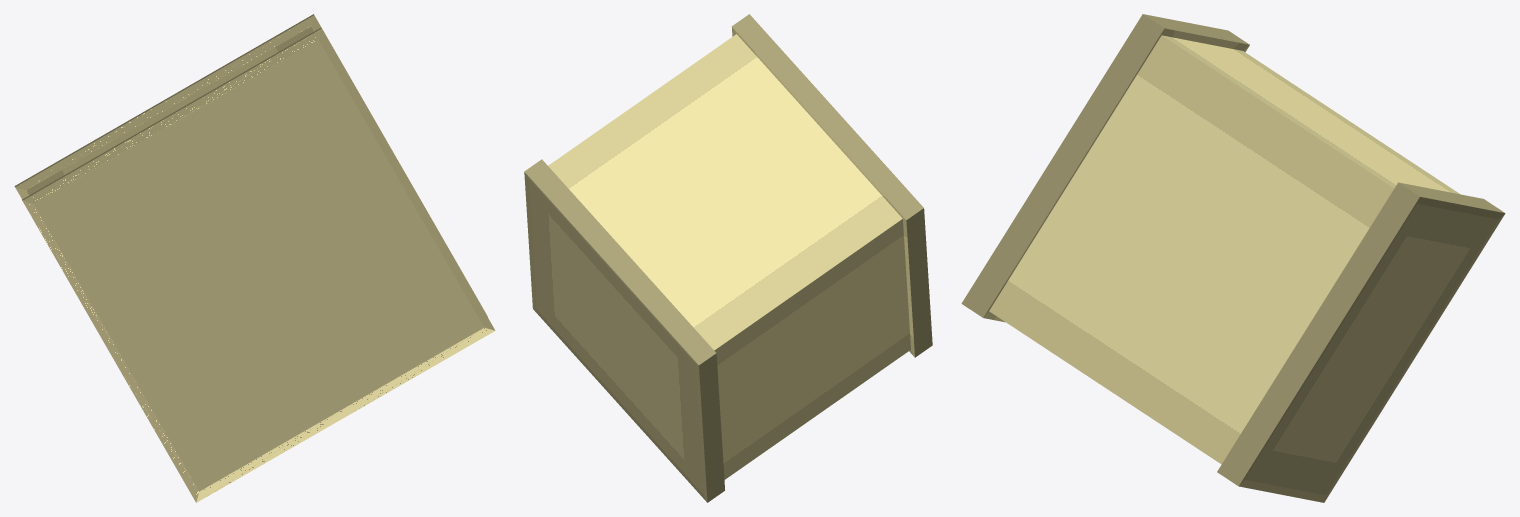
Rendered from building.glb.
The picture shows the model from 3 angles, left to right: view 1: azimuth 30°, elevation 25°; view 2: azimuth 150°, elevation 25°; view 3: azimuth 270°, elevation 25°; orthographic projection. The views are drawn at different scales.
Parts seen in each view (by area): view 1: Cube; view 2: Cube; view 3: Cube.
Part boxes in pixels (bbox=[...]): Cube: bbox=[14, 14, 495, 502]; Cube: bbox=[524, 14, 932, 502]; Cube: bbox=[961, 14, 1505, 502].
Size of the model in its own units: 3.14 by 3.3 by 3.2.
Materials: 1 (1 with a texture image).
